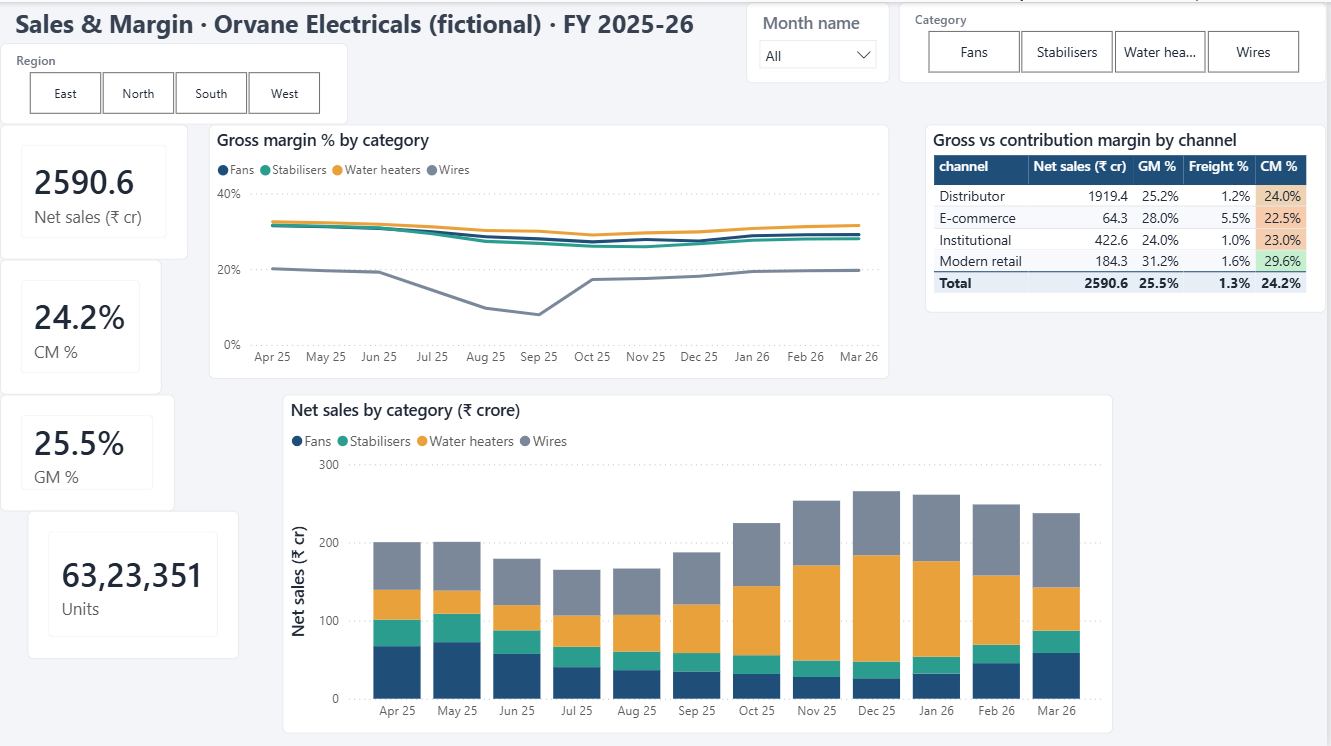

The page's visual inventory and layout, read from the dashboard file:
{"tool":"powerbi","page":{"name":"Sales & Margin","canvas":[1280,720],"ordinal":1},"visuals":[{"type":"textbox","box":[10,0,687.1,52.9],"z":0},{"type":"slicer","fields":{"Values":["Months.Month name"]},"box":[720,0,138.6,78.6],"z":1},{"type":"slicer","fields":{"Values":["Categories.Category"]},"box":[867.1,0,412.9,78.6],"z":2},{"type":"slicer","fields":{"Values":["Regions.Region"]},"box":[0,40,335.7,78.6],"z":3},{"type":"cardVisual","fields":{"Data":["_Measures.Net sales (₹ cr)"]},"box":[0,118.6,181.4,130],"z":4},{"type":"cardVisual","fields":{"Data":["_Measures.GM %"]},"box":[0,378.6,168.6,112.9],"z":5},{"type":"cardVisual","fields":{"Data":["_Measures.CM %"]},"box":[0,248.6,155.7,130],"z":6},{"type":"cardVisual","fields":{"Data":["_Measures.Units"]},"box":[27.1,491.4,204.3,142.9],"z":7},{"type":"lineChart","title":"Gross margin % by category","fields":{"Category":["Months.Month name"],"Y":["_Measures.GM %"],"Series":["Categories.Category"]},"box":[201.4,118.6,657.1,245.7],"z":8},{"type":"columnChart","title":"Net sales by category (₹ crore)","fields":{"Category":["Months.Month name"],"Y":["_Measures.Net sales (₹ cr)"],"Series":["Categories.Category"]},"box":[272.9,378.6,801.4,327.1],"z":9},{"type":"tableEx","title":"Gross vs contribution margin by channel","fields":{"Values":["sales_monthly.channel","_Measures.Net sales (₹ cr)","_Measures.GM %","_Measures.Freight %","_Measures.CM %"]},"box":[892.9,118.6,387.1,181.4],"z":10}]}

Visuals, with their boxes in screenshot pixels (x1, y1, x2, y2), scaled from the page's 1280x720 canvas onto the 1331x746 screenshot:
textbox: box(10, 0, 725, 55)
slicer - Months.Month name: box(749, 0, 893, 81)
slicer - Categories.Category: box(902, 0, 1330, 81)
slicer - Regions.Region: box(0, 41, 349, 123)
cardVisual - _Measures.Net sales (₹ cr): box(0, 123, 189, 258)
cardVisual - _Measures.GM %: box(0, 392, 175, 509)
cardVisual - _Measures.CM %: box(0, 258, 162, 392)
cardVisual - _Measures.Units: box(28, 509, 241, 657)
"Gross margin % by category" lineChart: box(209, 123, 893, 377)
"Net sales by category (₹ crore)" columnChart: box(284, 392, 1117, 731)
"Gross vs contribution margin by channel" tableEx: box(928, 123, 1330, 311)
